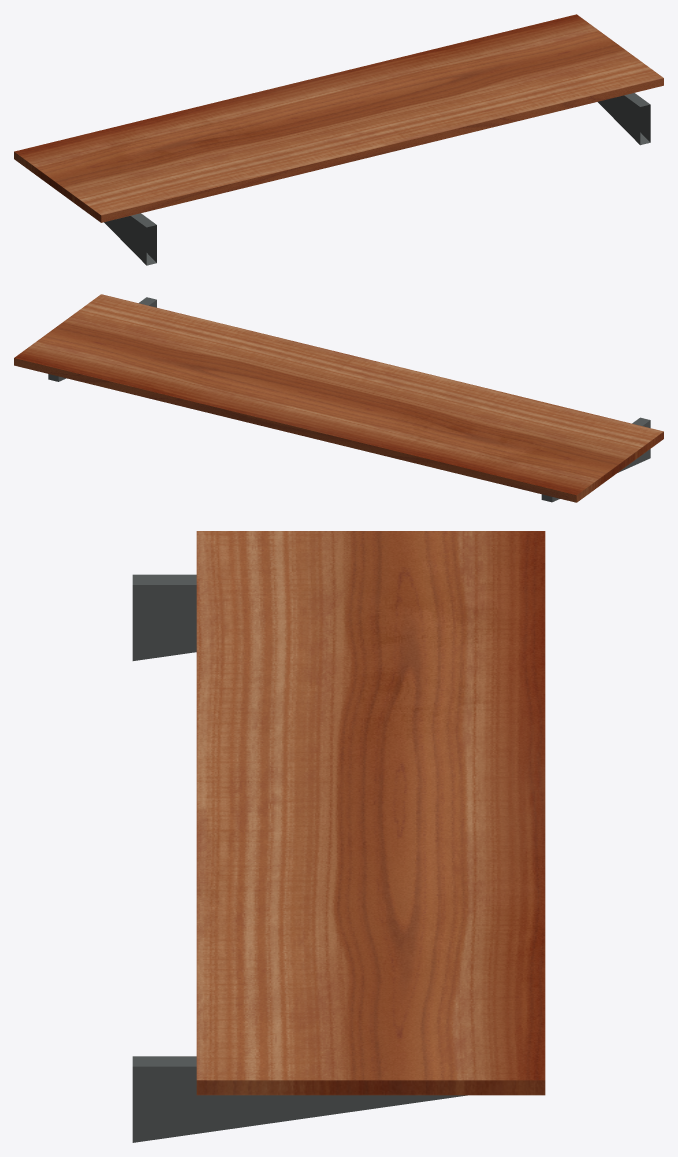
File: shelf_01.FBX
3 views of the same model, one above another, from view 1: azimuth 30°, elevation 25°; view 2: azimuth 150°, elevation 25°; view 3: azimuth 270°, elevation 25° (orthographic). The views are drawn at different scales.
Visible parts, largest first — view 1: Wall_Shelf; view 2: Wall_Shelf; view 3: Wall_Shelf.
Part boxes in pixels (box(x1,y1,x2,y2)): Wall_Shelf: box(14, 14, 663, 265); Wall_Shelf: box(14, 294, 663, 502); Wall_Shelf: box(132, 531, 545, 1142).
Bounding box in the file's own units: 157 × 12.15 × 49.75.
